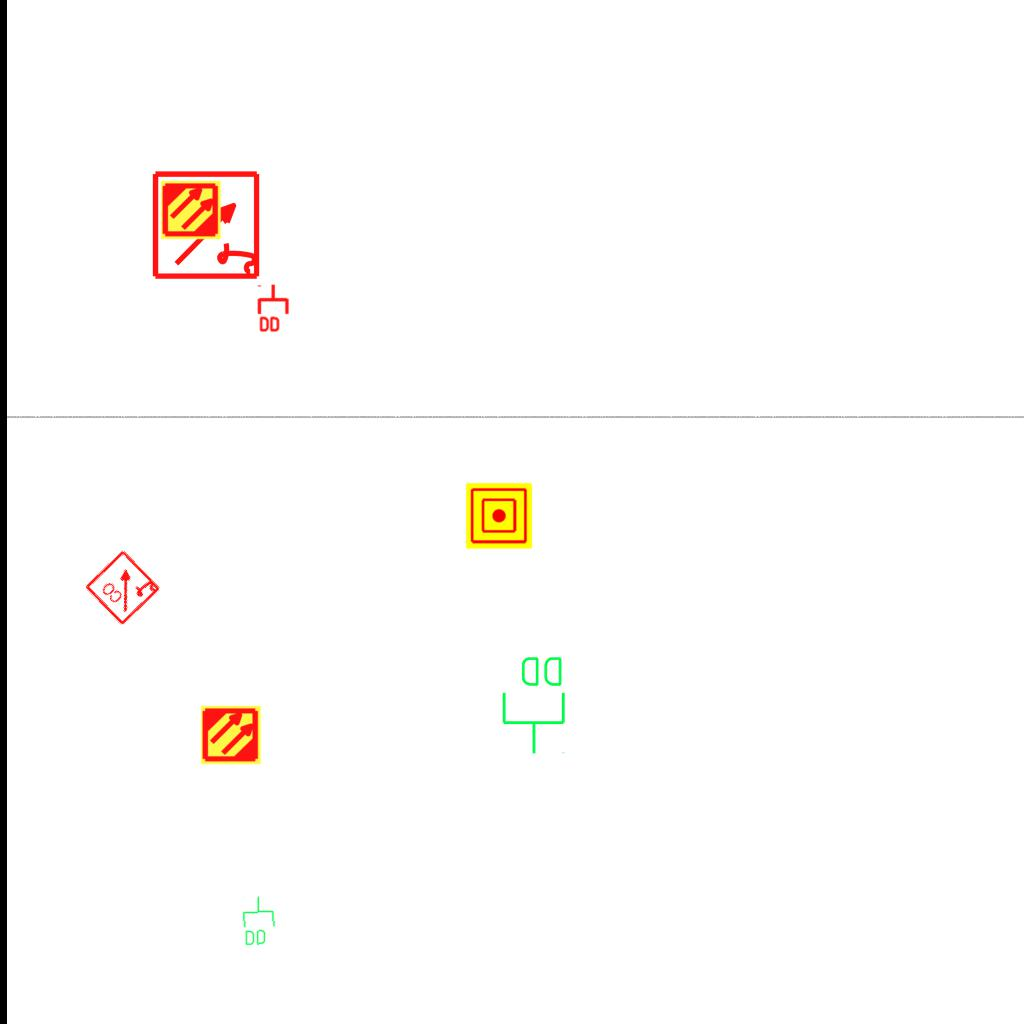ASR_Ansaugrauchmelder: (200, 704, 262, 766), (160, 179, 222, 241)
Datenanschluss_zweifach: (500, 653, 569, 756), (241, 895, 276, 947), (257, 283, 291, 334)
NAM-Nichtautomatischer_Melder: (466, 483, 532, 549)
ROA_Rauchmelder_optisch_mit_Signalgeber_(Sockelsirene): (151, 168, 264, 281), (83, 547, 163, 627)
